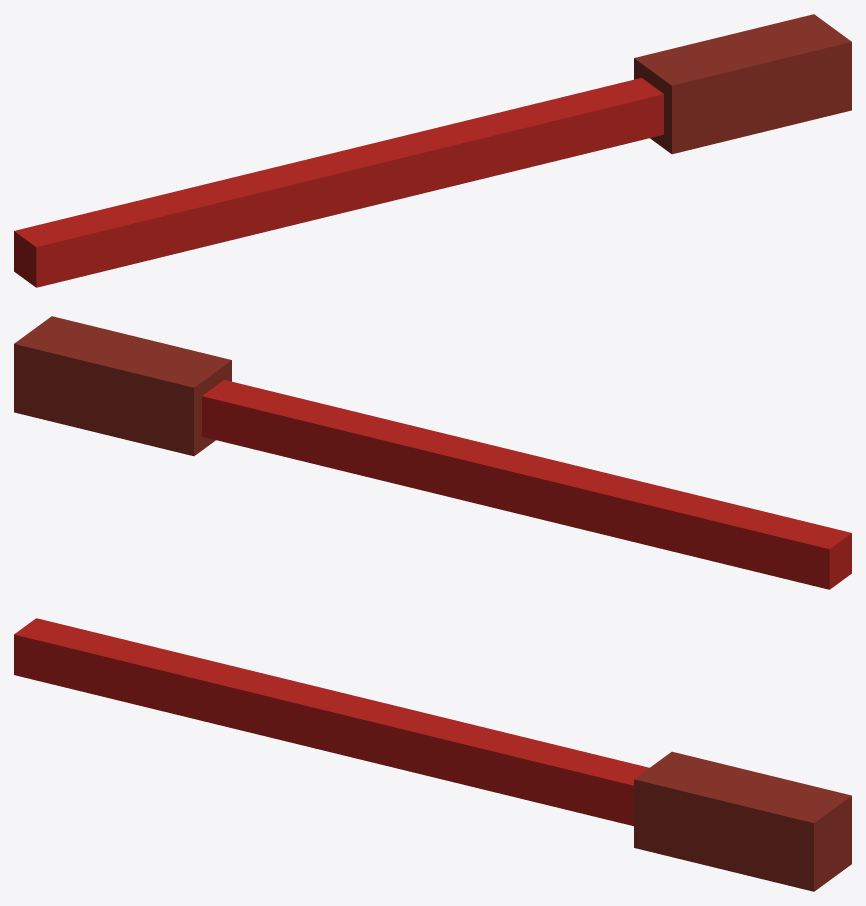
Rendered from Cable_E_1_1.fbx.
3 views of the same model, one above another, from view 1: azimuth 30°, elevation 25°; view 2: azimuth 150°, elevation 25°; view 3: azimuth 330°, elevation 25° (orthographic).
Visible parts, largest first — view 1: Cable_E_1_1; view 2: Cable_E_1_1; view 3: Cable_E_1_1.
Part boxes in pixels (x1,y1,x2,y2): Cable_E_1_1: [14, 14, 851, 287]; Cable_E_1_1: [14, 316, 851, 589]; Cable_E_1_1: [14, 618, 851, 891].
Bounding box in the file's own units: 121 × 9.83 × 9.83.
